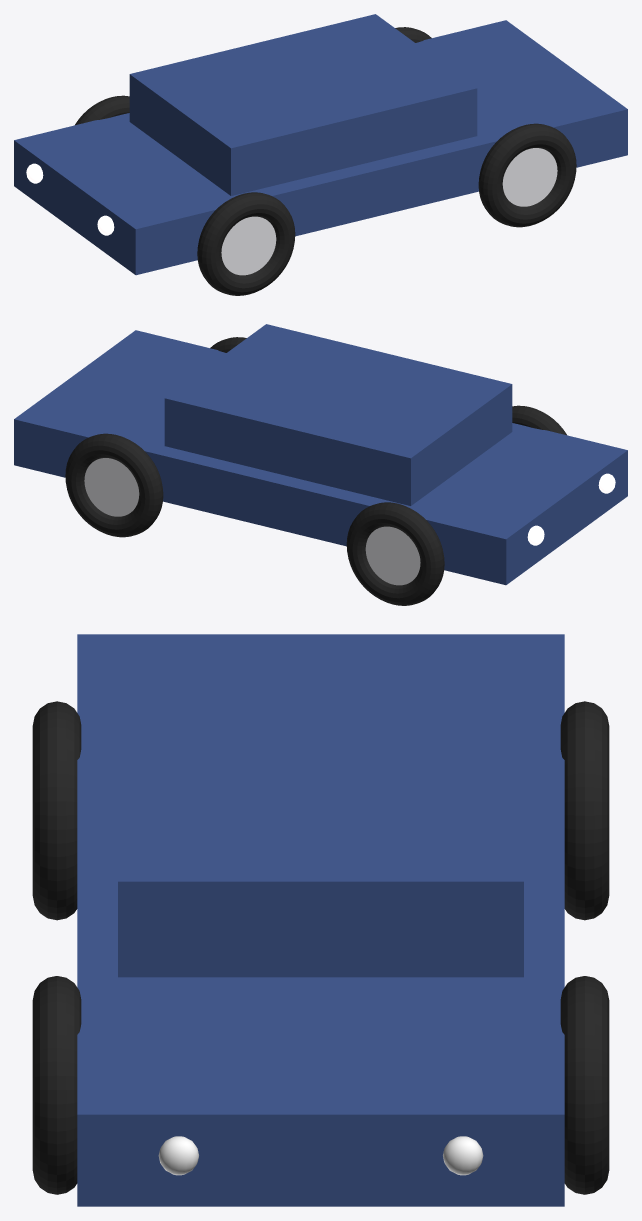
The picture shows the model from 3 angles, top to bottom: view 1: azimuth 30°, elevation 25°; view 2: azimuth 150°, elevation 25°; view 3: azimuth 270°, elevation 25°; orthographic projection. The views are drawn at different scales.
Visible parts, largest first — view 1: SportyCar; view 2: SportyCar; view 3: SportyCar.
Boxes of the visible parts, x1,y1,x2,y2 form: SportyCar: [14, 14, 627, 295]; SportyCar: [14, 324, 627, 605]; SportyCar: [32, 634, 609, 1206].
Bounding box in the file's own units: 5.86 × 1.46 × 2.84.
